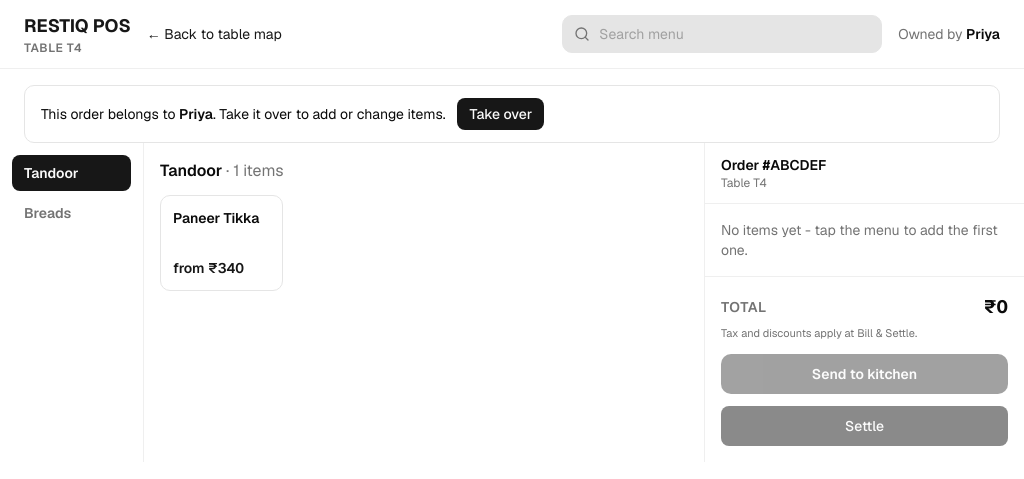
OrderTakingView › shows the owner's name, never their id, on someone else's order - read-only with a Take over action (SE-22)
This screenshot has width=1024, height=479.
Expected: the element with test id "order-owner" shows "Priya", [966,25,1000,43]
Expected: the element with test id "order-not-yours" shows "belongs to Priya", [24,85,1000,143]
What coordinates should you click on to do the following:
click the button with test id "order-take-over"
I would click on:
 (501, 114)
Its box is [458,98,544,130].
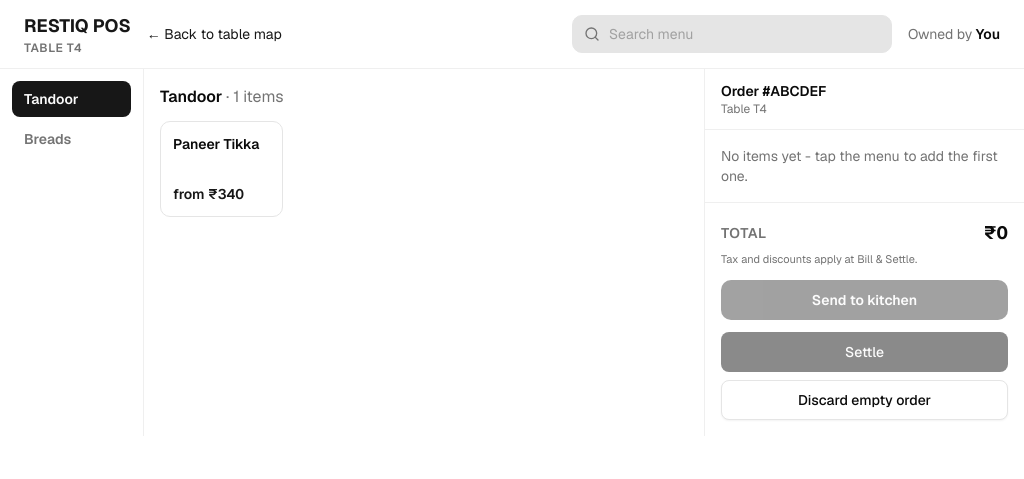
Expected: the element with test id "order-not-yours" is gone
Expected: the element with test id "order-owner" shows "You", [976,25,1000,43]
